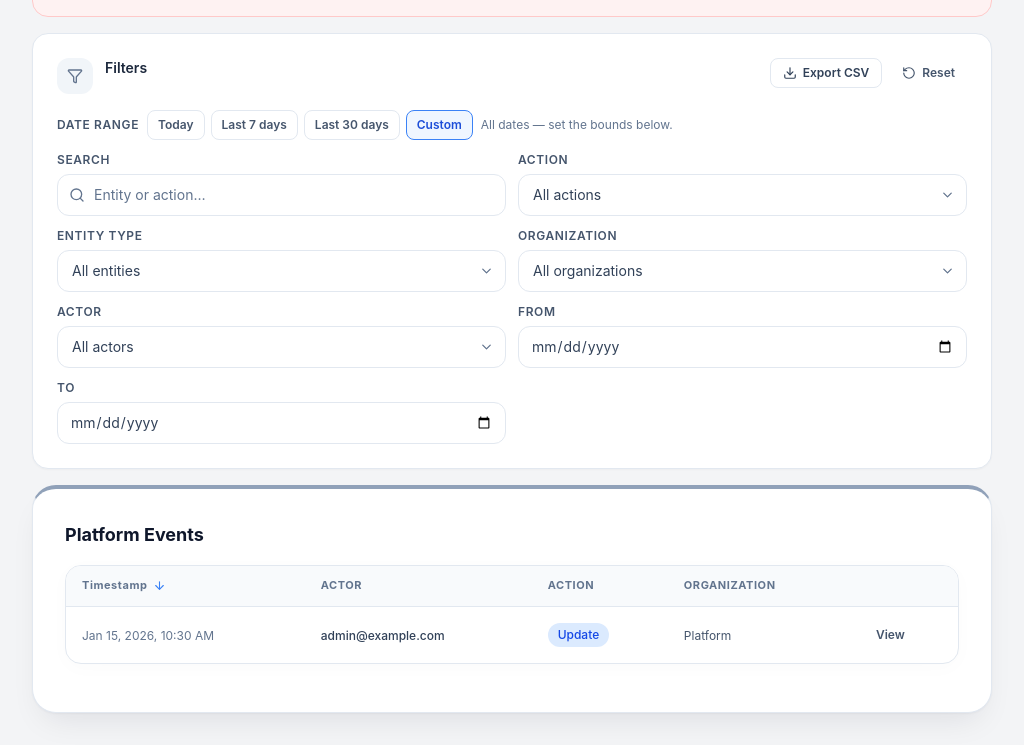
Test: AuditLogsPage › shows a structured before/after diff from real old/new values
(page scrolled)
Click the text "admin@example.com" at (383,635), box [321,628,445,643]
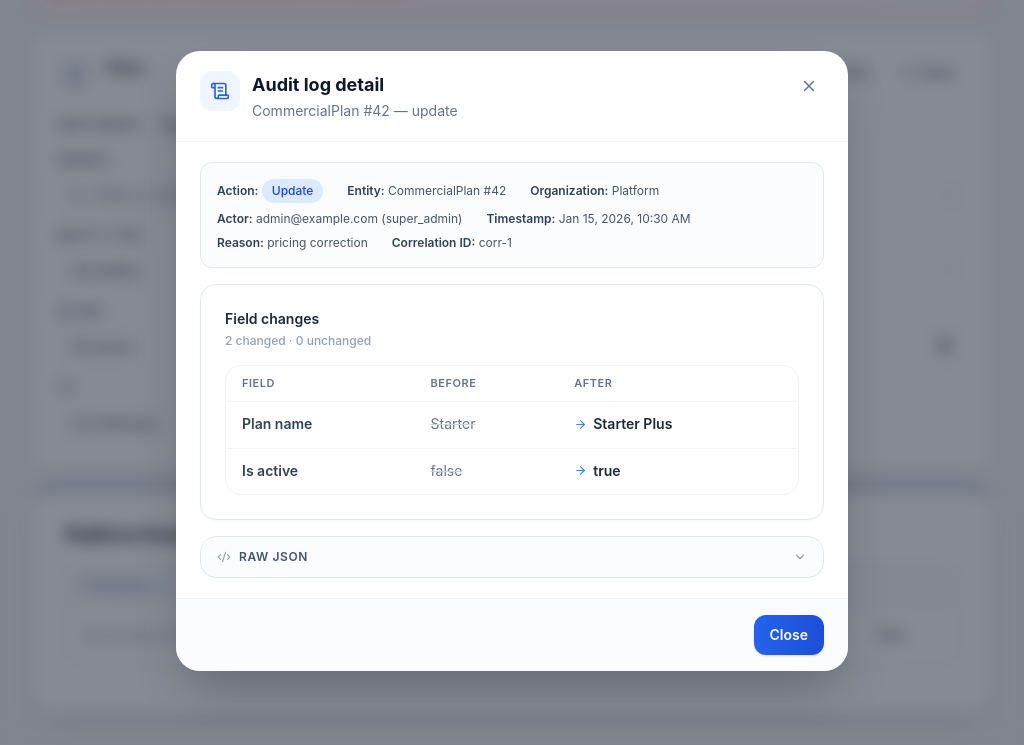
Now the text "Starter" is shown, box [431,415,476,432]
Now the text "Starter Plus" is shown, box [574,414,672,434]
Now the text "Plan name" is shown, box [242,415,312,432]
